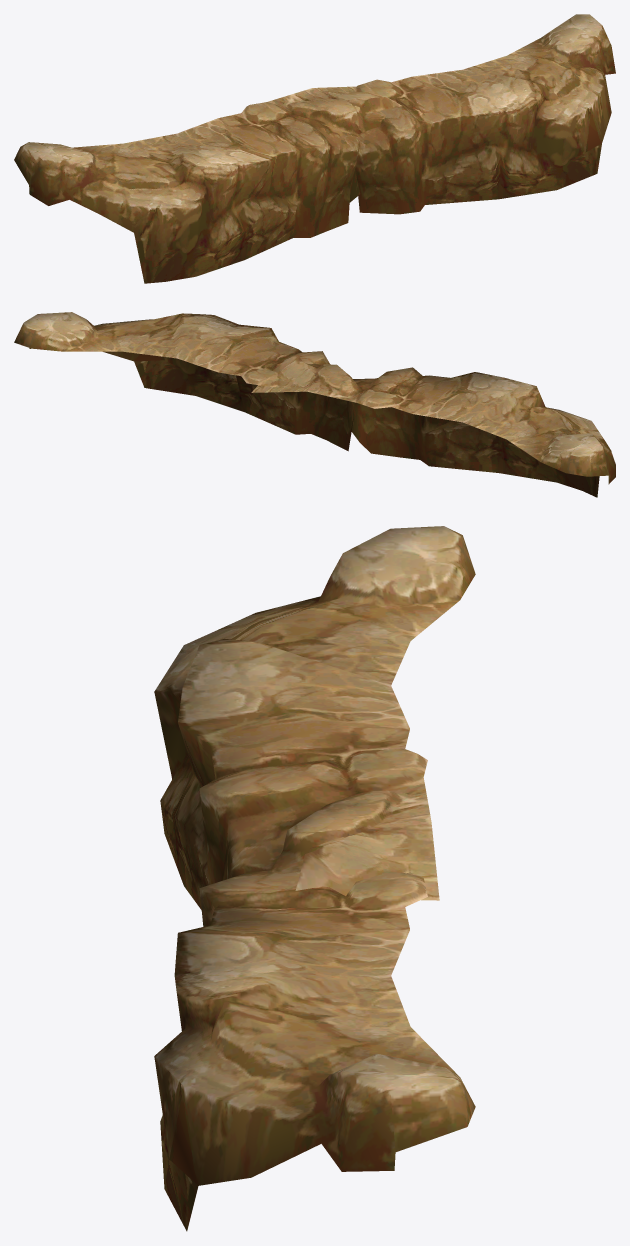
The model's file is shitou_01.FBX.
The picture shows the model from 3 angles, top to bottom: view 1: azimuth 30°, elevation 25°; view 2: azimuth 150°, elevation 25°; view 3: azimuth 270°, elevation 25°; orthographic projection. The views are drawn at different scales.
Visible parts, largest first — view 1: Object032; view 2: Object032; view 3: Object032.
Part boxes in pixels (bbox=[...]): Object032: bbox=[14, 14, 615, 283]; Object032: bbox=[14, 312, 615, 497]; Object032: bbox=[154, 526, 475, 1231].
Size of the model in its own units: 6896 by 1198 by 1656.
1 material, 1 textured.
